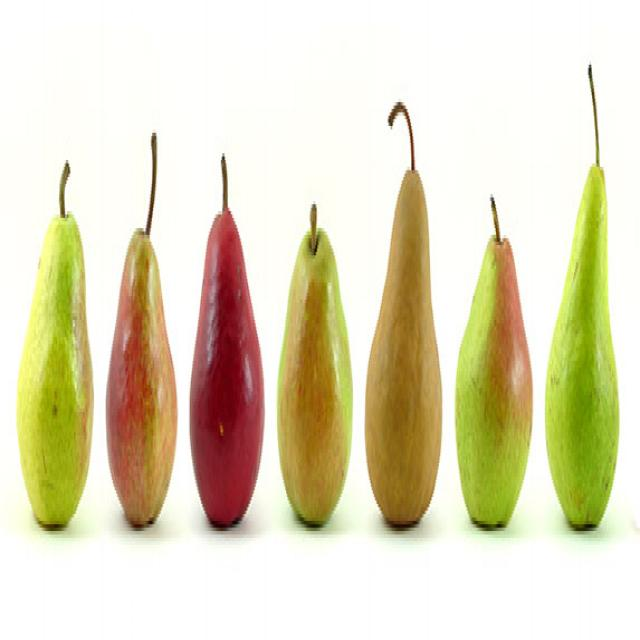pear: (360, 85, 446, 541), (542, 61, 622, 542), (103, 123, 182, 548), (186, 146, 267, 542), (16, 156, 97, 544), (451, 184, 536, 548), (275, 184, 357, 538)
